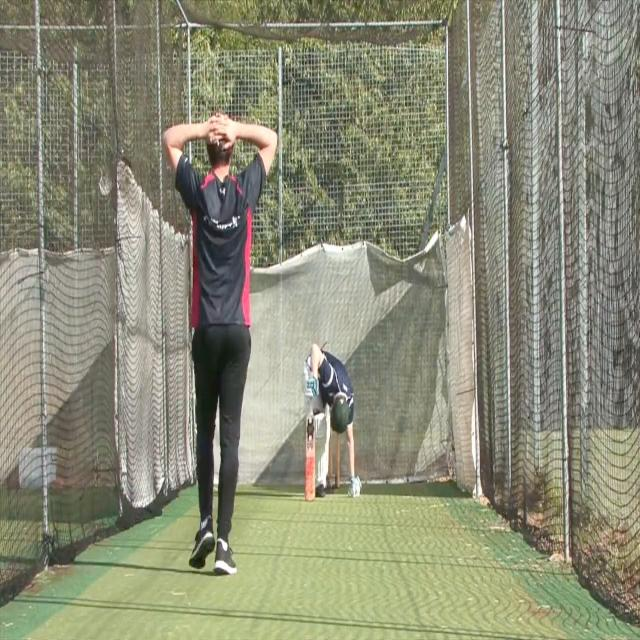batsman: (301, 340, 364, 503)
